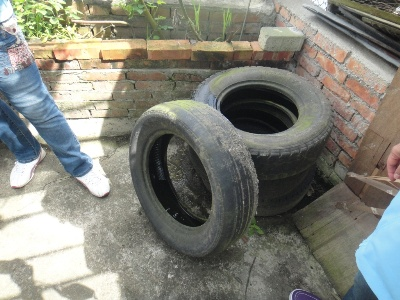tire: (127, 98, 261, 260), (189, 64, 336, 180)
